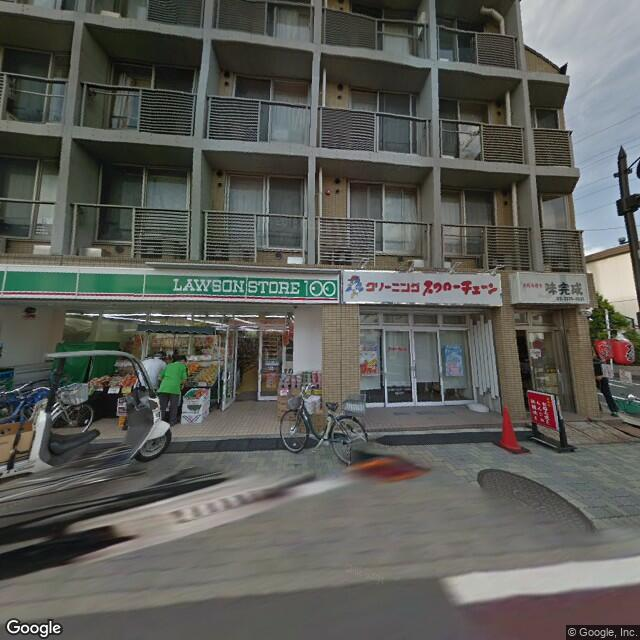lawson: (1, 261, 340, 305)
